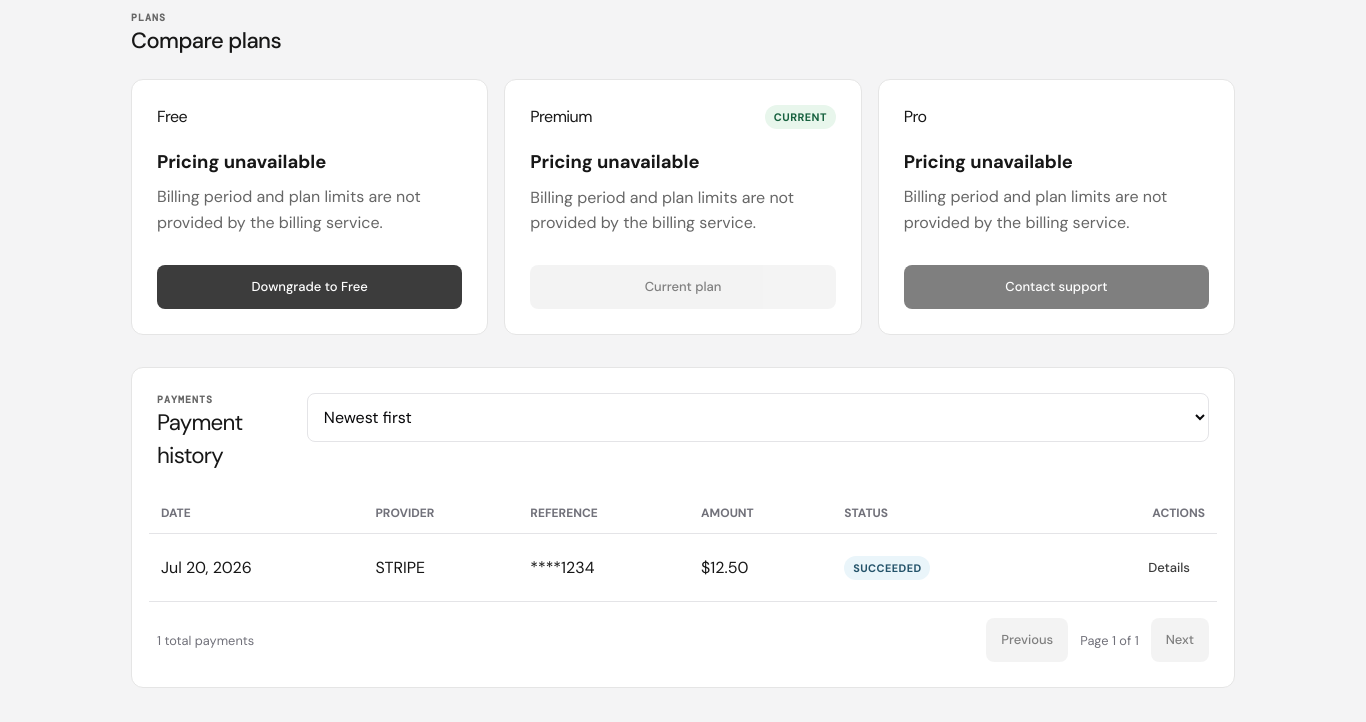
Test: BillingWorkspace › opens accessible transaction and cancellation dialogs
The image size is (1366, 722).
(page scrolled)
Click the button with aria-label "View transaction 41" at [1169, 568], box [1133,546,1205,589]
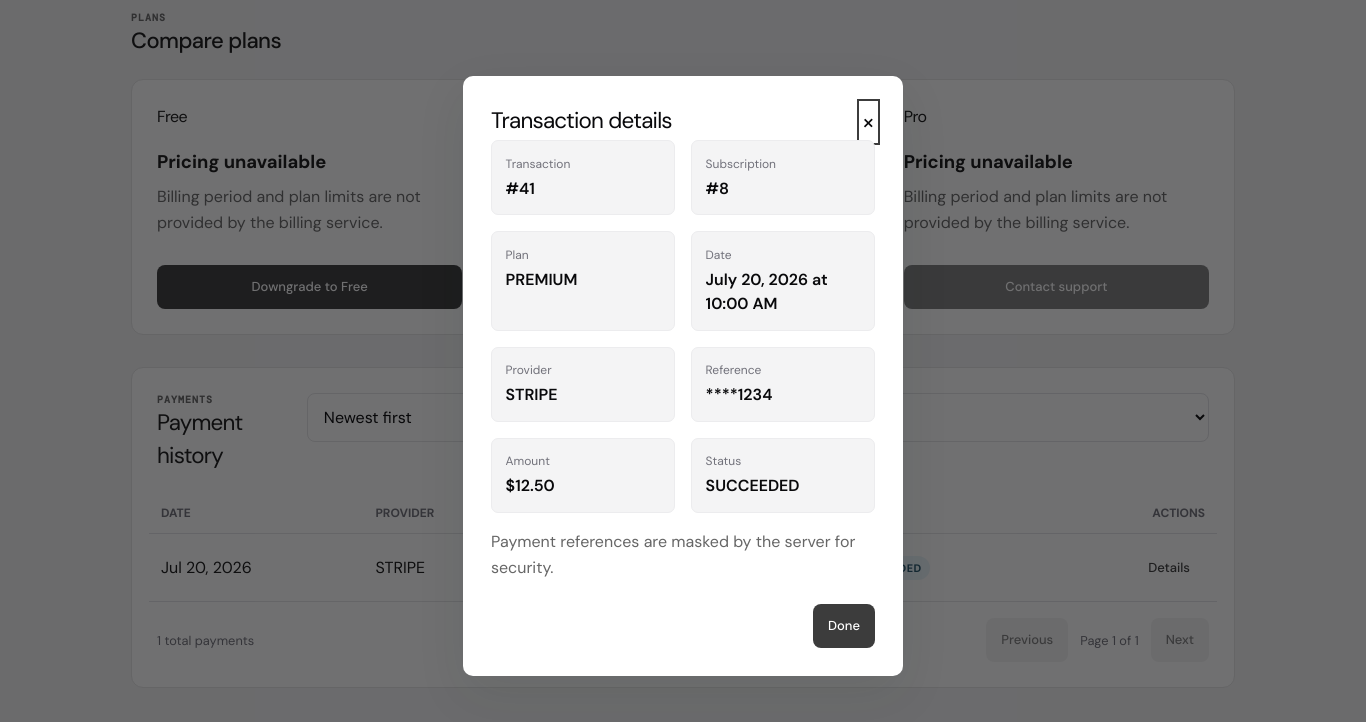
Result: the dialog "Transaction details" is shown at [463,76,903,676]
Click the button "Done" at [844, 626], box [813,604,875,648]
(page scrolled)
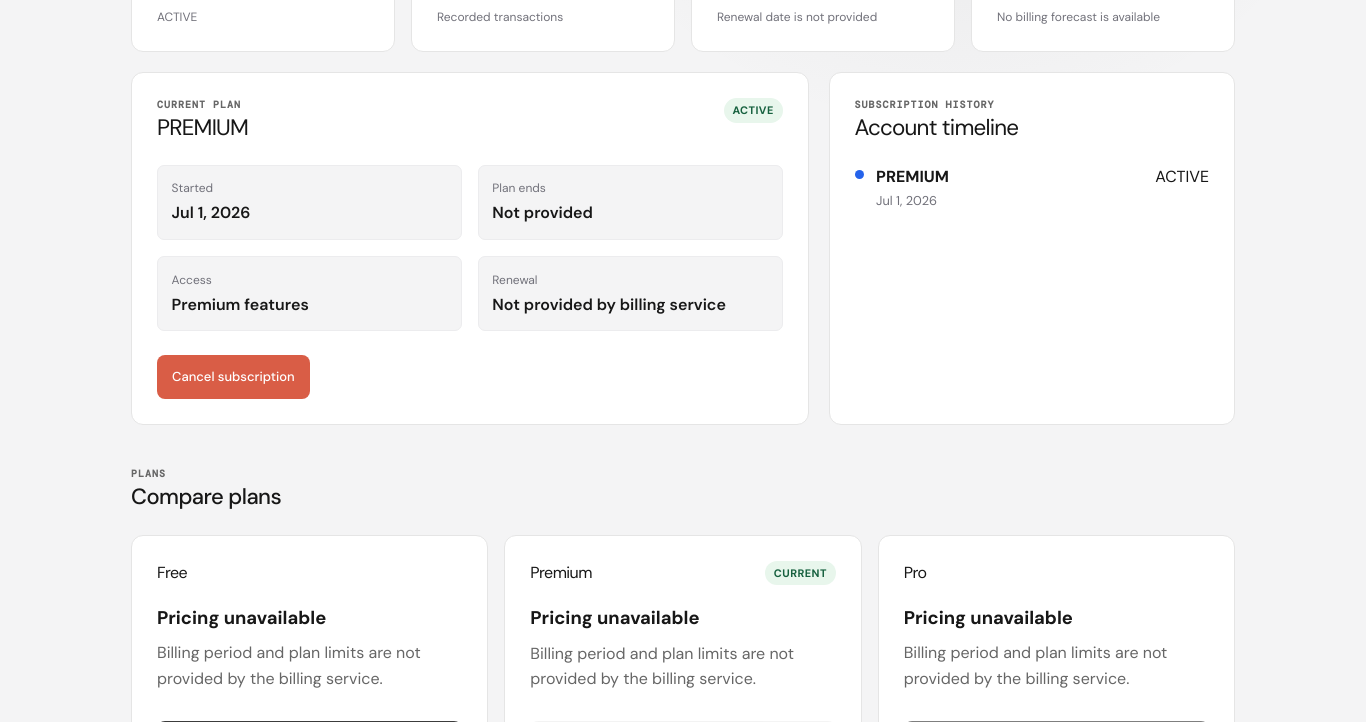
Click the button "Cancel subscription" at [233, 377], box [157,355,310,399]
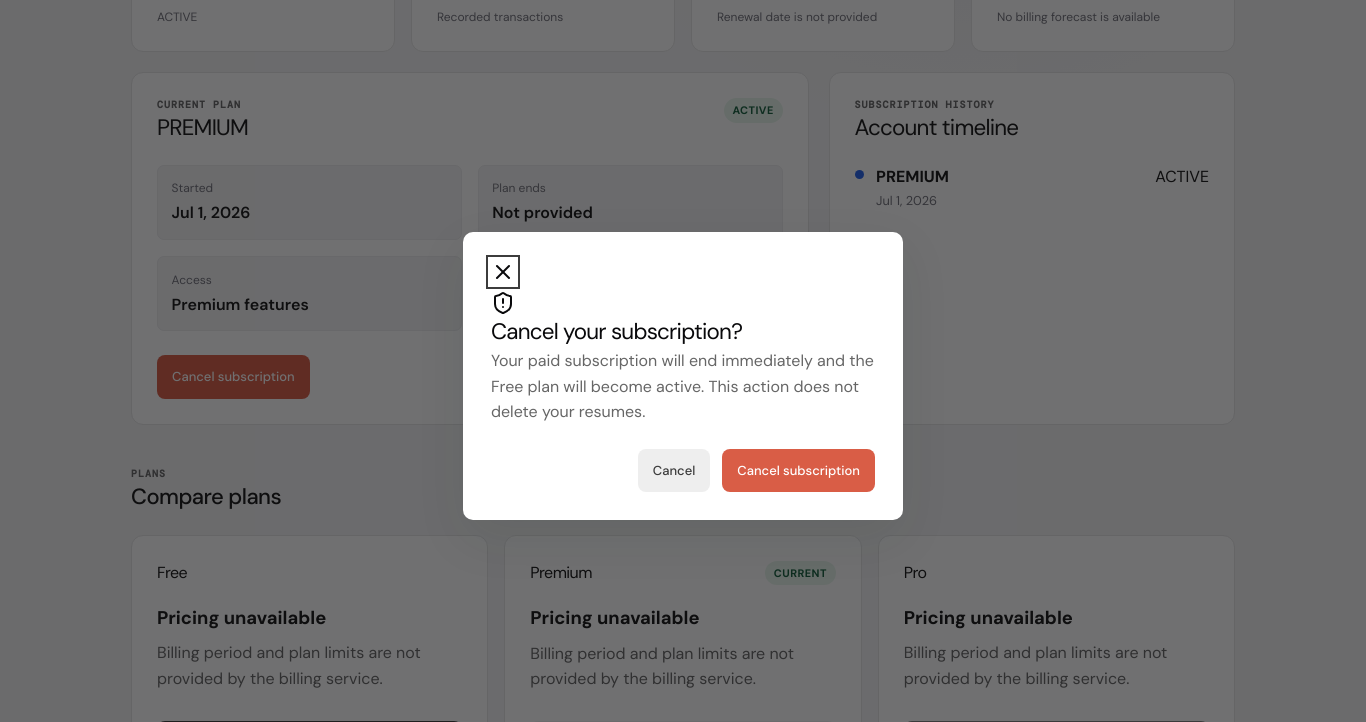
Result: the dialog "Cancel your subscription?" is shown at [463,232,903,520]
